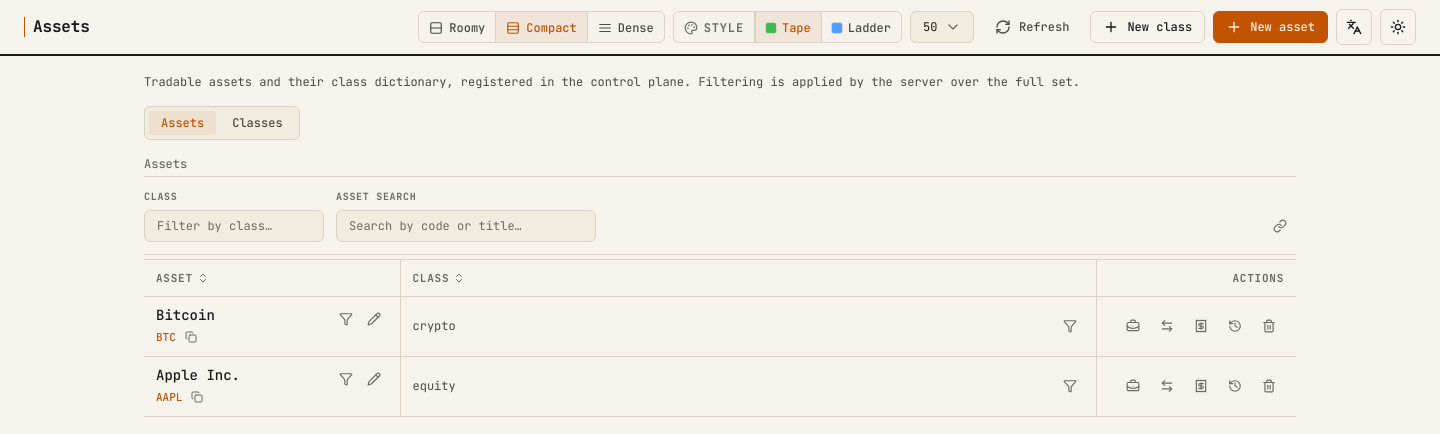
Assets › sends asset search filters to the API
The width and height of the screenshot is (1440, 434).
Expected: the text "Bitcoin" is shown, [156,304,215,326]
Expected: the text "Apple Inc." is shown, [156,364,240,386]
Type "apple" into the dropdown labelled "Asset search" at (466, 226), box [336,210,596,242]
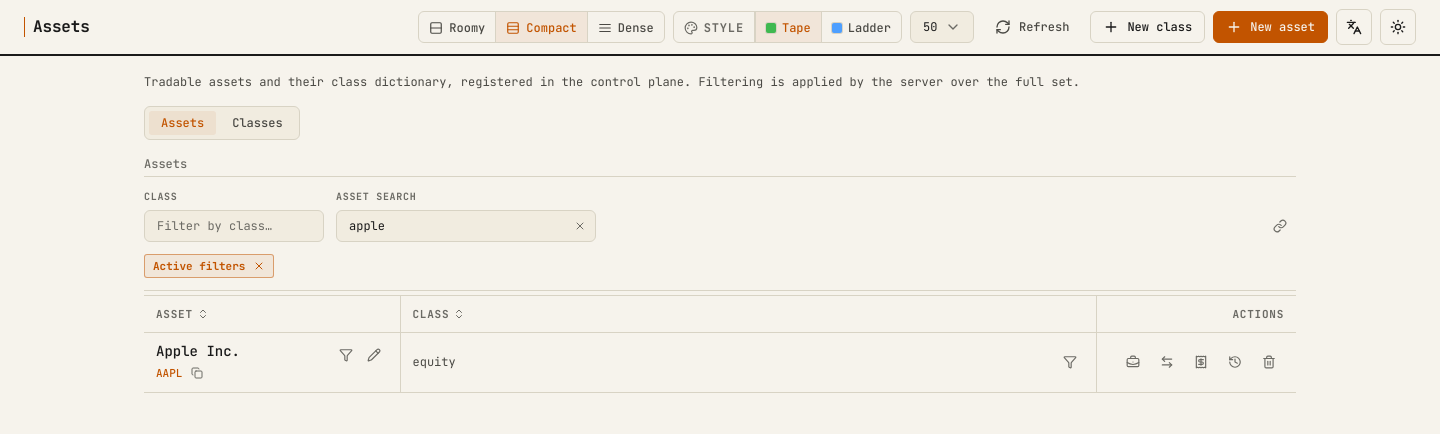
Expected: the text "Apple Inc." is shown, [156,340,240,362]
Expected: the text "Bitcoin" is gone
